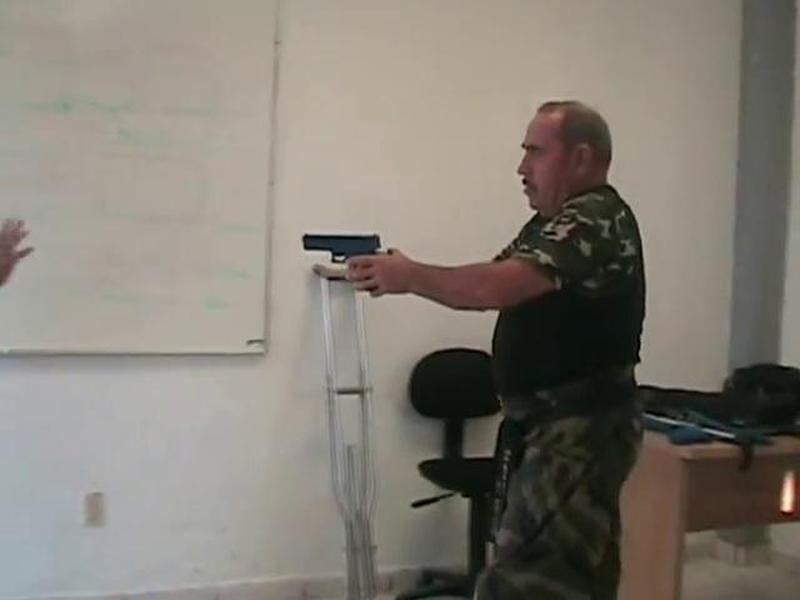Pistola: (286, 222, 400, 320)
